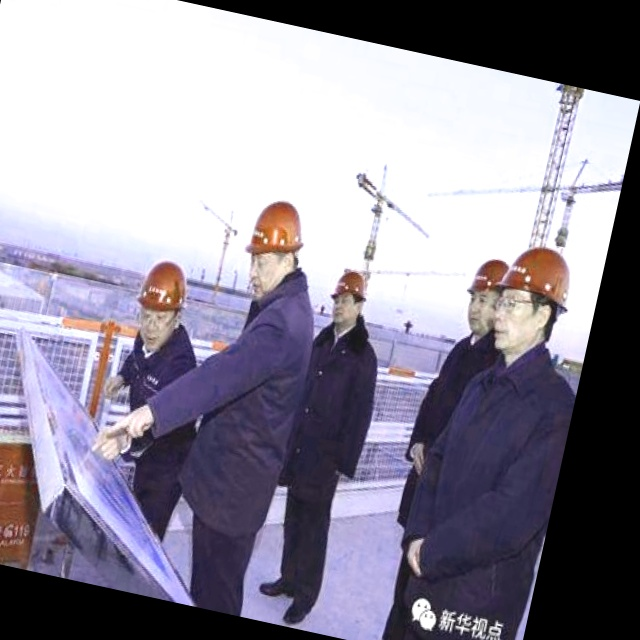Con_Casco: (242, 195, 310, 300), (134, 259, 189, 347)
Sin_Chaleco: (415, 353, 578, 612)
